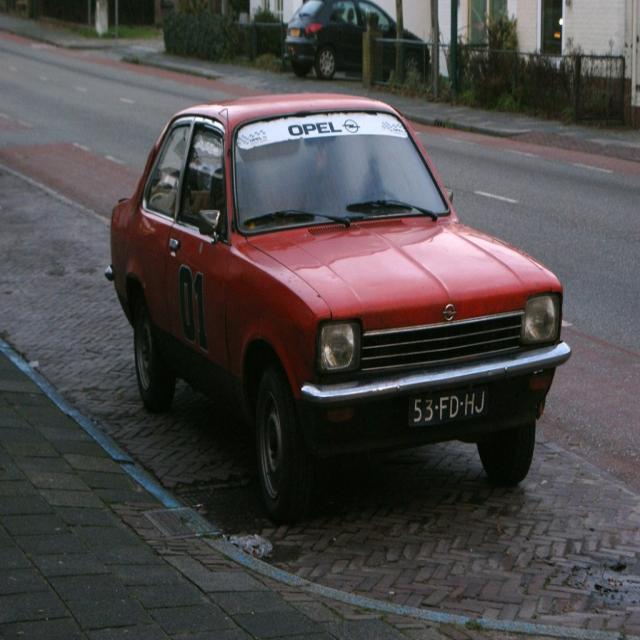car: (104, 85, 573, 526)
